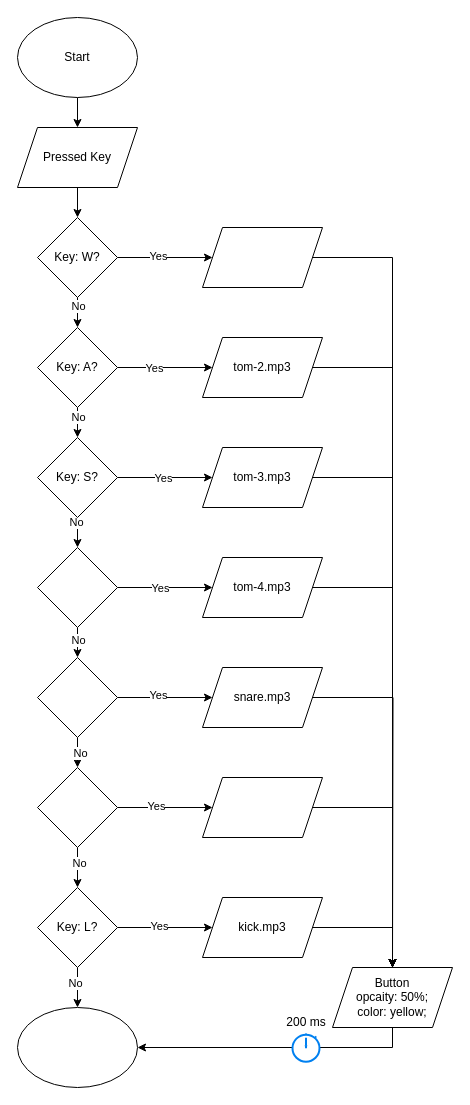
This 470x1105 diagram has some shape labels left out. The shapes that lost their labels are listed below. From the top down, each one's box as (x1, y1, x2, y2) in pixels, then its label:
(202, 226, 322, 288): tom-1.mp3
(36, 546, 118, 628): Key: D?
(36, 656, 118, 738): Key: J?
(36, 766, 118, 848): Key: K?
(202, 776, 322, 838): crash.mp3
(16, 1006, 138, 1088): End
